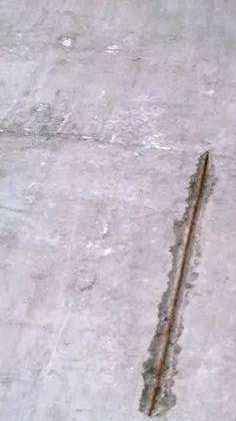Exposed reinforcement: (148, 151, 209, 417)
Spalling: (137, 150, 218, 419)
